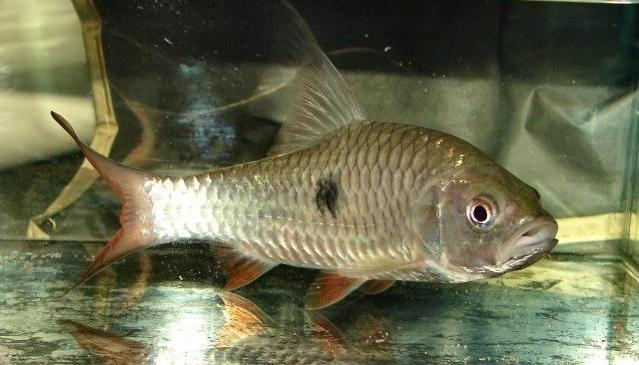Black Spotted Barb: (51, 52, 558, 337)
